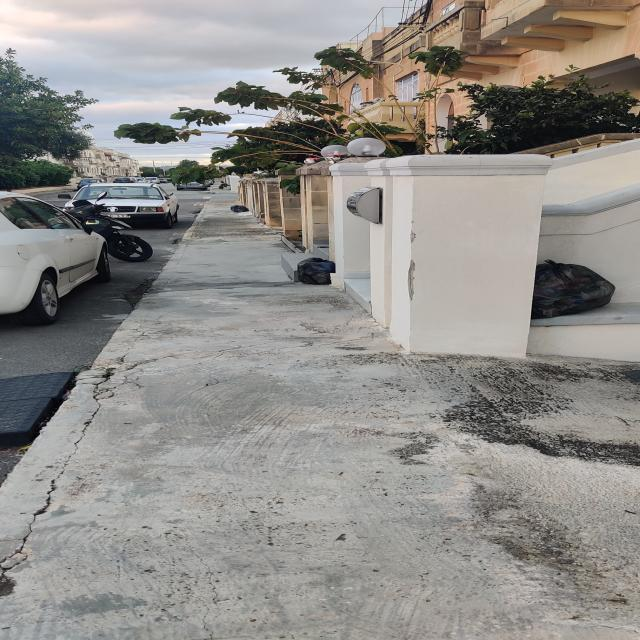Mixed Waste -Black Bags-: (532, 260, 615, 321), (298, 257, 335, 284), (230, 206, 250, 213), (218, 184, 230, 189), (220, 180, 224, 183)
